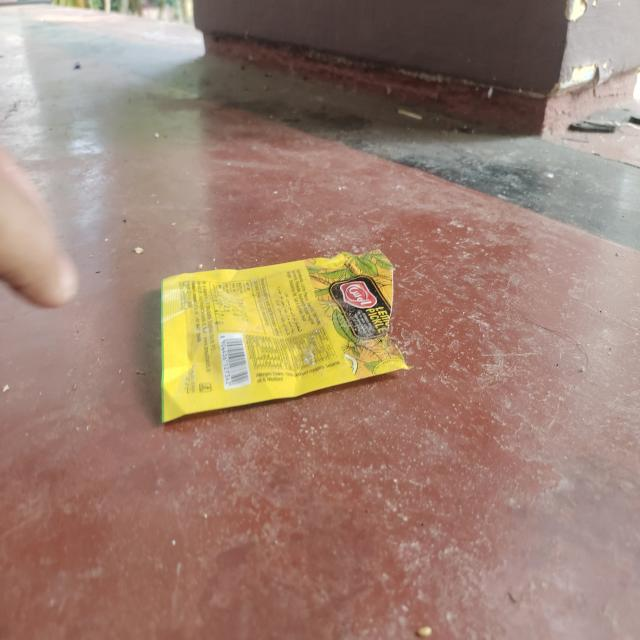plastic: (154, 244, 412, 428)
